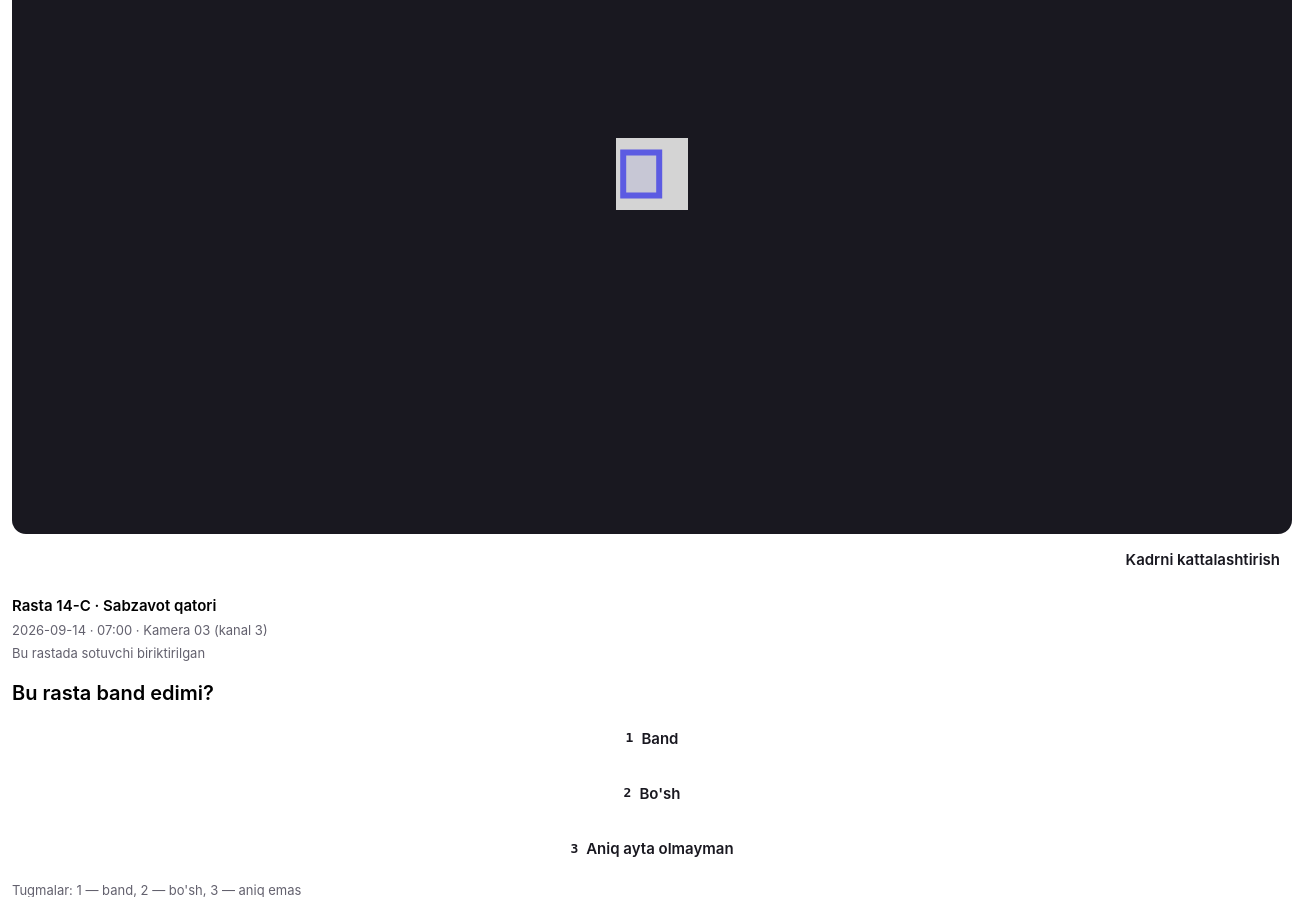
Test: ⛔ bitta javob = bitta so'rov (D-18) › javobdan keyin tizim javobi ko'rinadi (§7.1 — javobdan KEYIN)
This screenshot has width=1304, height=897.
(page scrolled)
Click the button "1 Band".
click(652, 739)  # box [12,715,1292,762]
(page scrolled)
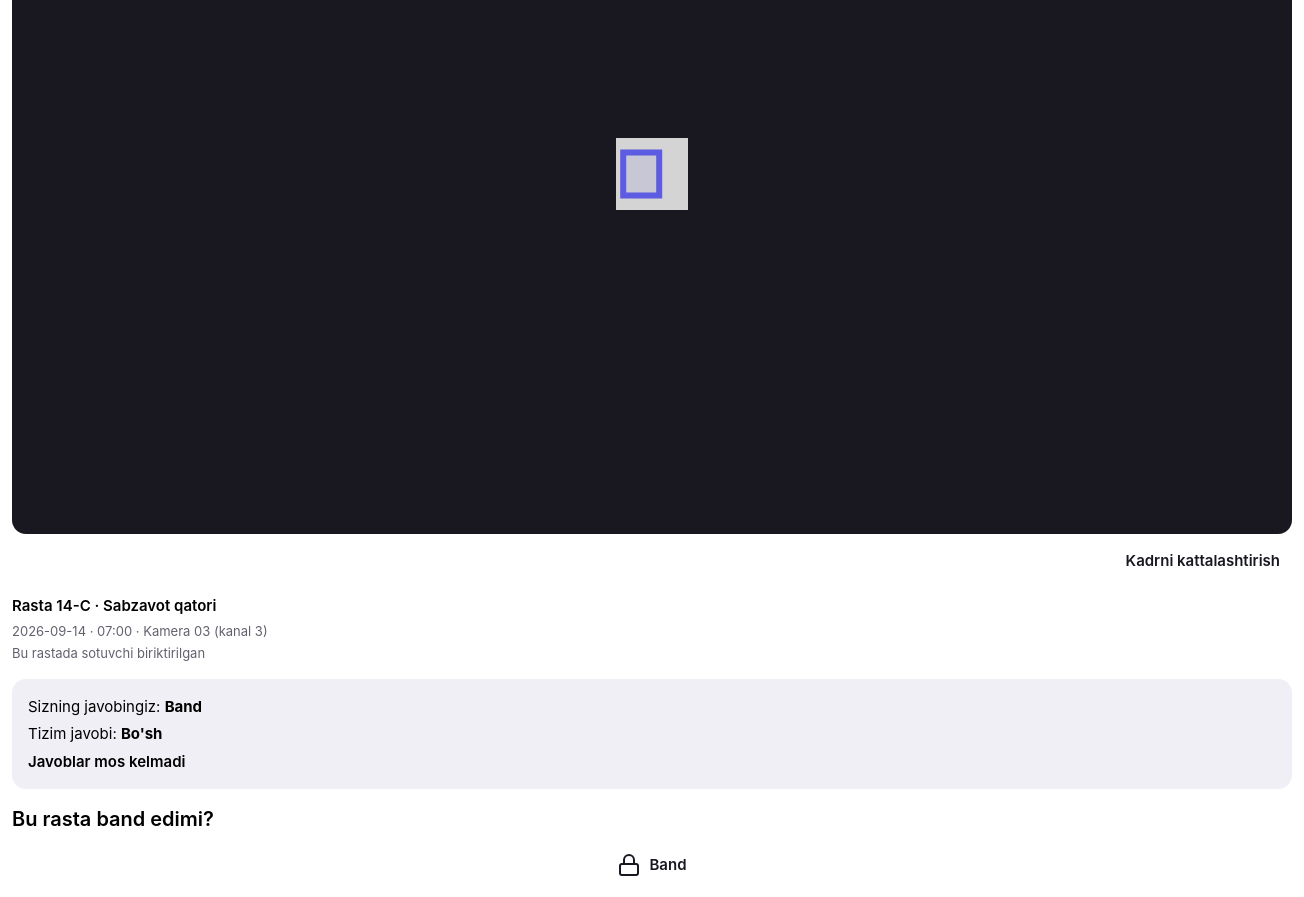
Expected: the text "Javoblar mos kelmadi" is shown, [28,752,185,771]
Expected: the text "Sizning javobingiz: Band" is shown, [28,697,202,716]
Expected: the text "Tizim javobi: Bo'sh" is shown, [28,724,162,743]
